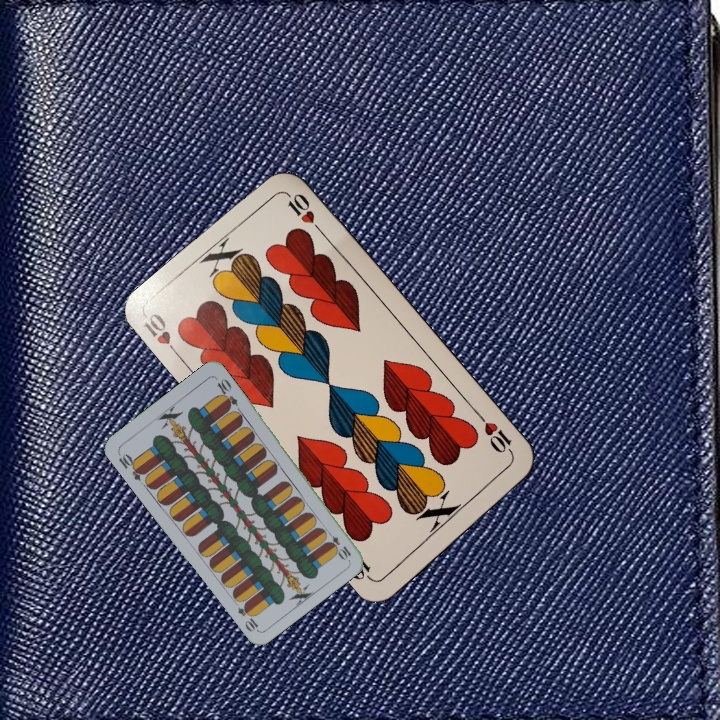E10: (114, 448, 148, 483), (321, 526, 354, 562)
H10: (139, 309, 184, 362), (473, 410, 517, 460)
